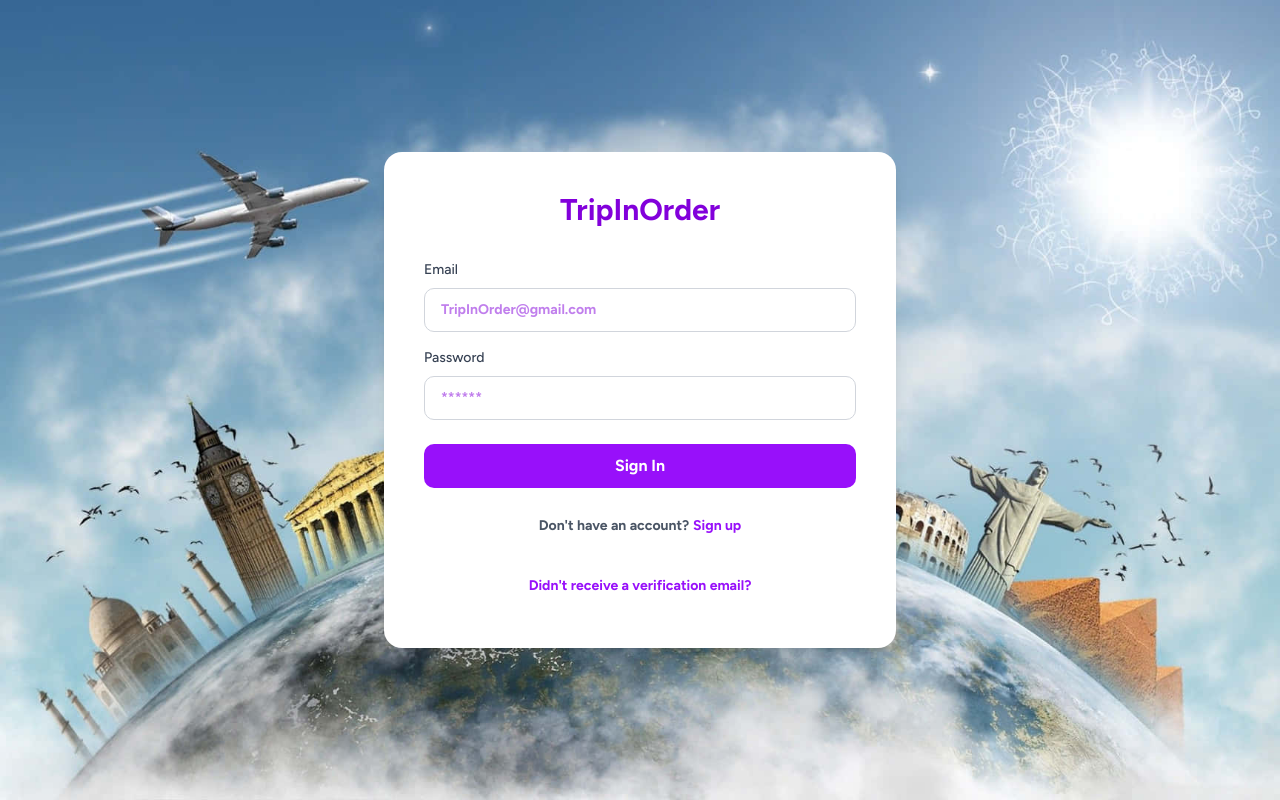
Scenario: login page › offers to resend the verification email when the account is not verified
Step 1. Type "gabi@example.com" into the field with placeholder "TripInOrder@gmail.com" → (640, 310), box [424,288,856,332]
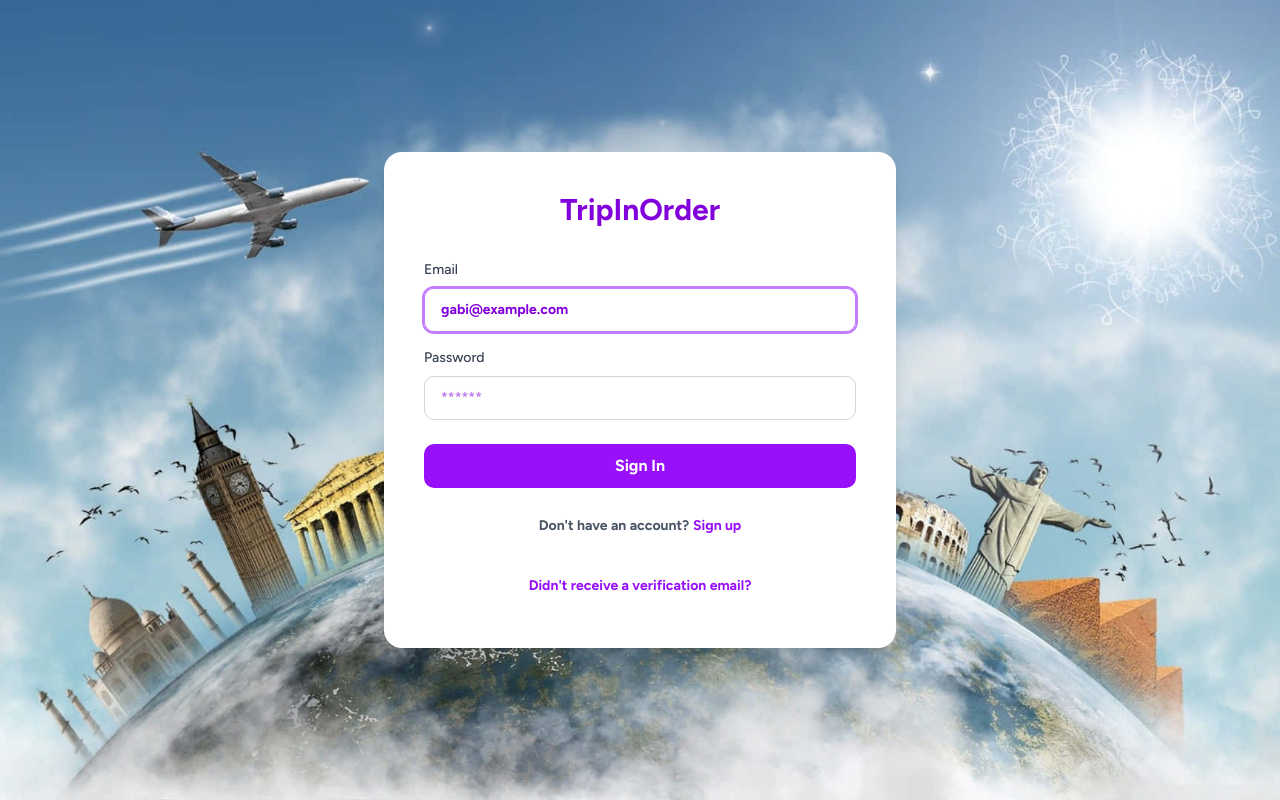
Step 2. Type "abc123" into the password field with placeholder "******" → (640, 398), box [424,376,856,420]
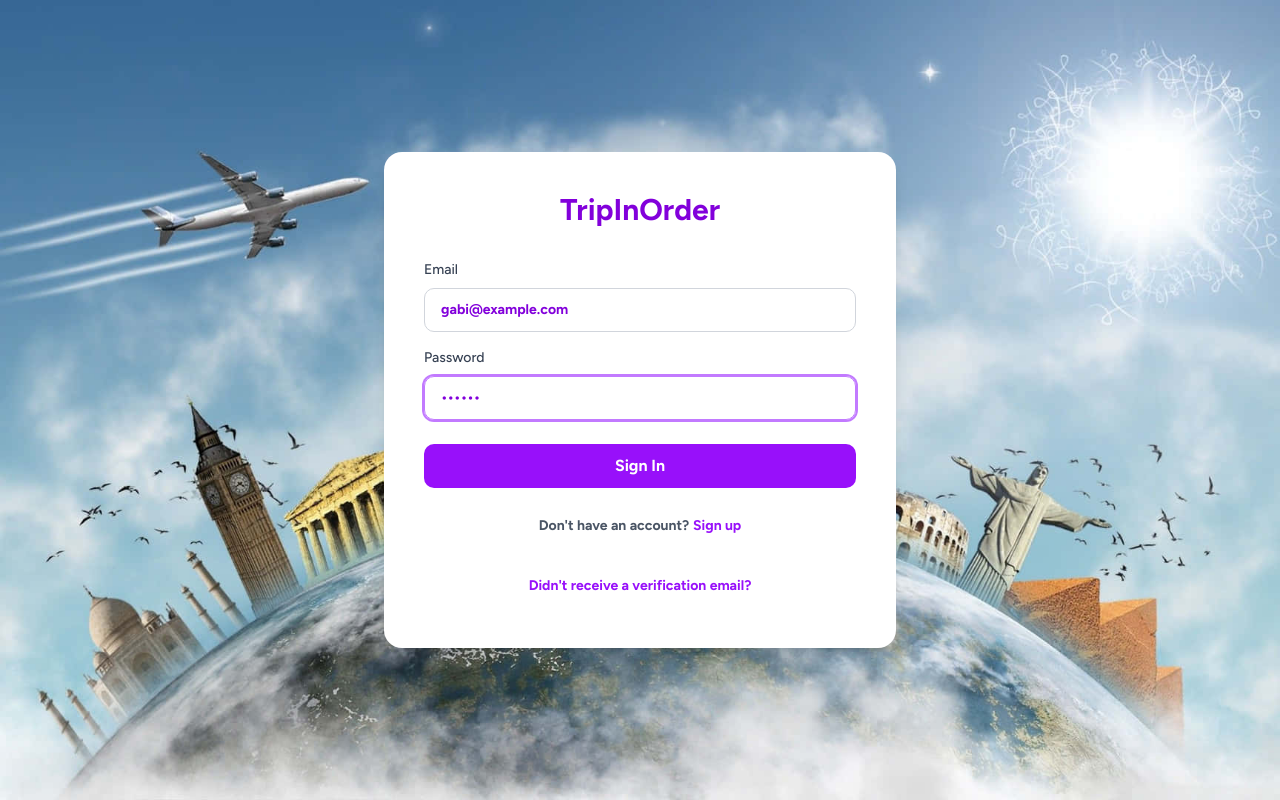
Step 3. Click the button "Sign In" → (640, 466), box [424,444,856,488]
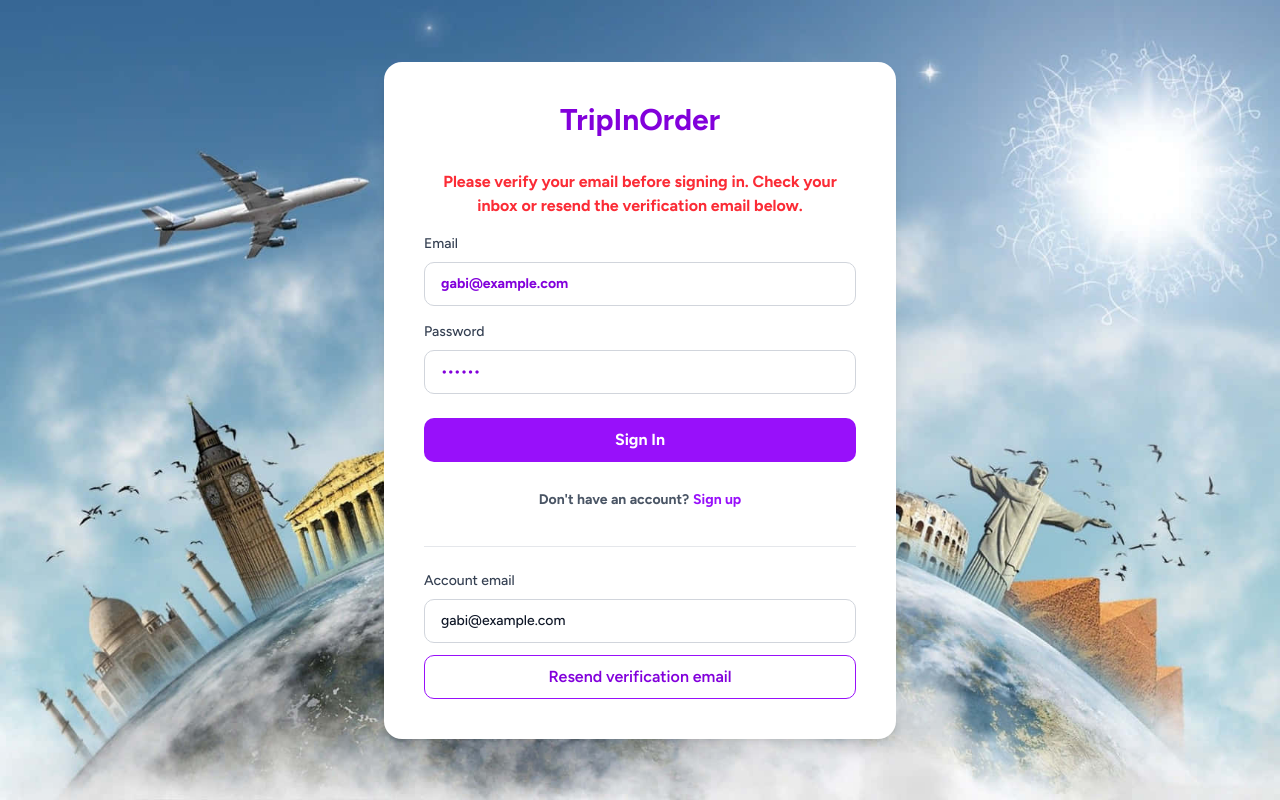
Expected: the text "Please verify your email before signing in" is shown, [443,172,837,214]
Expected: the field labelled "Account email" holds "gabi@example.com", [424,598,856,642]
